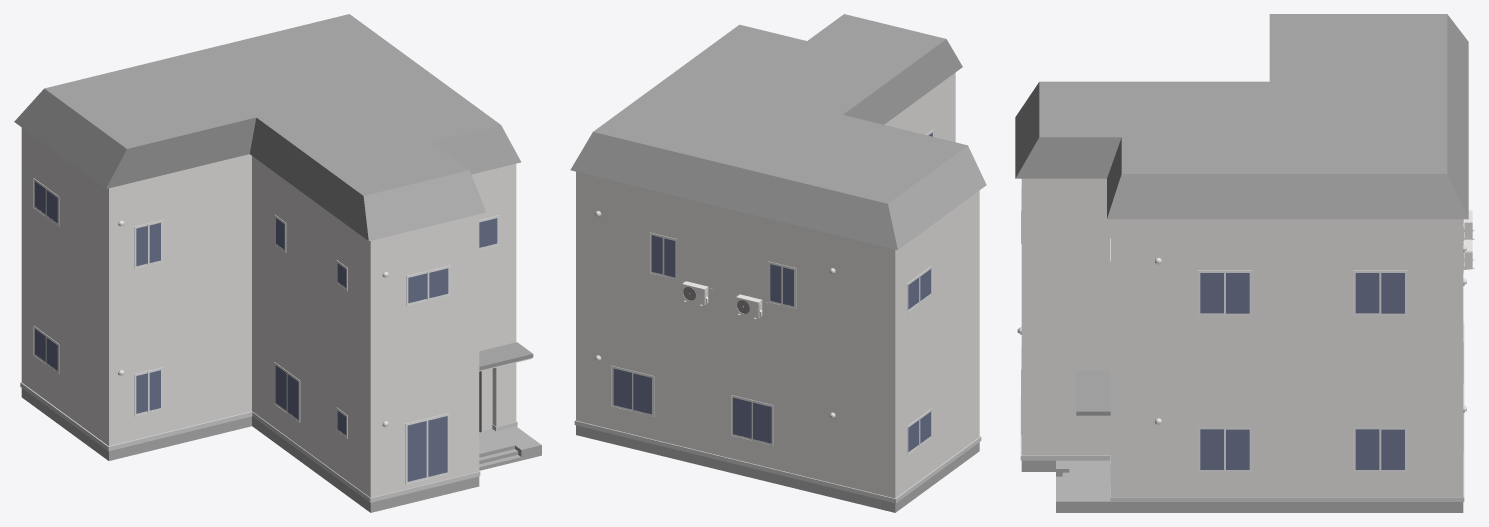
The model's file is MobHouse43.fbx.
3 views of the same model, side by side, from view 1: azimuth 30°, elevation 25°; view 2: azimuth 150°, elevation 25°; view 3: azimuth 270°, elevation 25° (orthographic). The views are drawn at different scales.
Parts seen in each view (by area): view 1: Flat_half_house02.002; view 2: Flat_half_house02.002; view 3: Flat_half_house02.002.
Boxes of the visible parts, x1,y1,x2,y2 form: Flat_half_house02.002: [14, 14, 541, 512]; Flat_half_house02.002: [570, 14, 986, 512]; Flat_half_house02.002: [1015, 14, 1474, 512].
Size of the model in its own units: 9.95 by 8.72 by 10.87.
